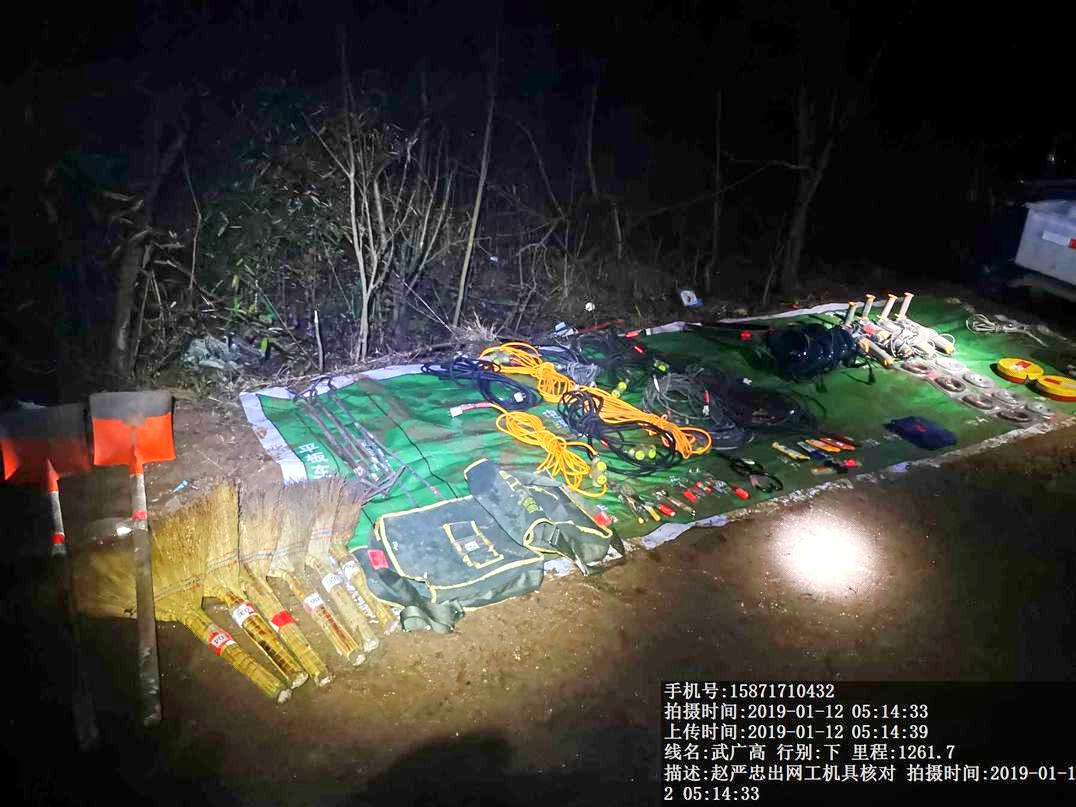DX: (487, 403, 606, 489), (590, 383, 700, 459), (435, 349, 536, 409)
DZ: (897, 291, 950, 349), (837, 302, 880, 362)
GJB: (369, 502, 529, 611), (473, 457, 611, 561)
JC: (993, 355, 1042, 386), (1039, 368, 1076, 406)
SB: (151, 504, 314, 694)
T: (1012, 185, 1076, 289)
TQ: (86, 382, 182, 615), (1, 388, 86, 591)
